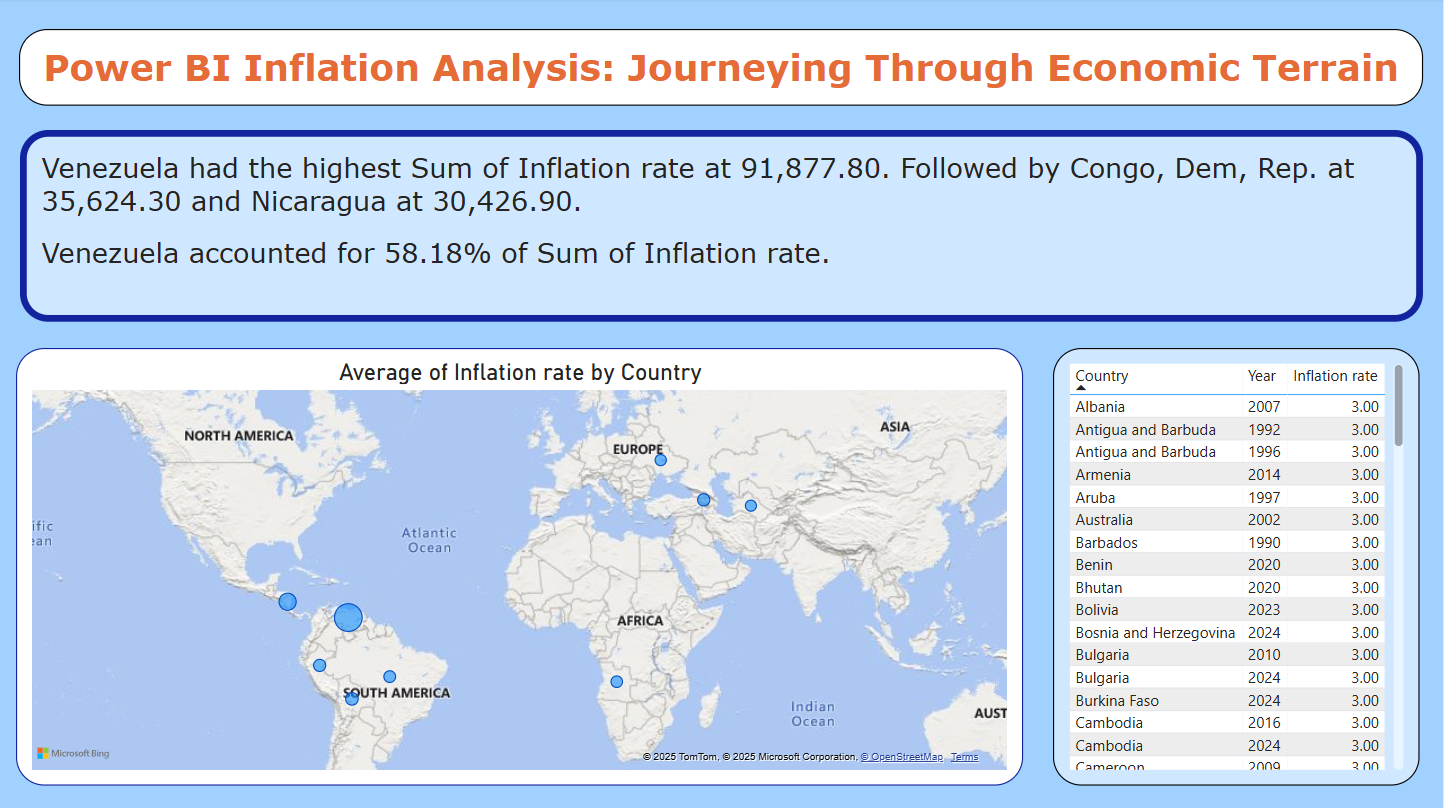

The dashboard page shown, as its layout file describes it:
{"tool":"powerbi","page":{"name":"Page 2","canvas":[1280,720],"ordinal":1},"visuals":[{"type":"map","fields":{"Category":["inflation rate.country_name"],"Size":["Avg(inflation rate.inflation_rate)"]},"box":[15,310,892.5,387.5],"z":0},{"type":"tableEx","fields":{"Values":["inflation rate.country_name","inflation rate.Year","inflation rate.inflation_rate"]},"box":[935,310,325,387.5],"z":1},{"type":"textbox","box":[17.5,27.5,1245,67.5],"z":2},{"type":"textbox","box":[18.6,117.1,1244.3,170],"z":3}]}

Visuals, with their boxes in screenshot pixels (x1, y1, x2, y2), scaled from the page's 1280x720 canvas onto the 1444x808 screenshot:
map - inflation rate.country_name x Avg(inflation rate.inflation_rate): {"left": 17, "top": 348, "right": 1024, "bottom": 783}
tableEx - inflation rate.country_name x inflation rate.Year: {"left": 1055, "top": 348, "right": 1421, "bottom": 783}
textbox: {"left": 20, "top": 31, "right": 1424, "bottom": 107}
textbox: {"left": 21, "top": 131, "right": 1425, "bottom": 322}
